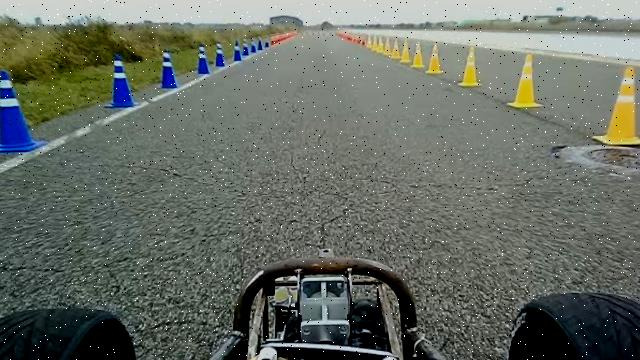blue cone: (0, 69, 48, 153), (104, 53, 137, 108), (157, 49, 177, 89), (196, 44, 210, 74), (214, 42, 225, 66), (233, 39, 242, 62), (242, 38, 250, 56), (256, 37, 263, 52), (250, 38, 256, 53), (264, 36, 270, 48)
yellow cone: (591, 65, 640, 147), (506, 52, 543, 109), (457, 46, 482, 88), (425, 42, 442, 74), (410, 42, 424, 68), (399, 40, 411, 63), (390, 38, 401, 60), (383, 37, 391, 56), (376, 36, 384, 54), (365, 34, 373, 50), (370, 36, 377, 52)
